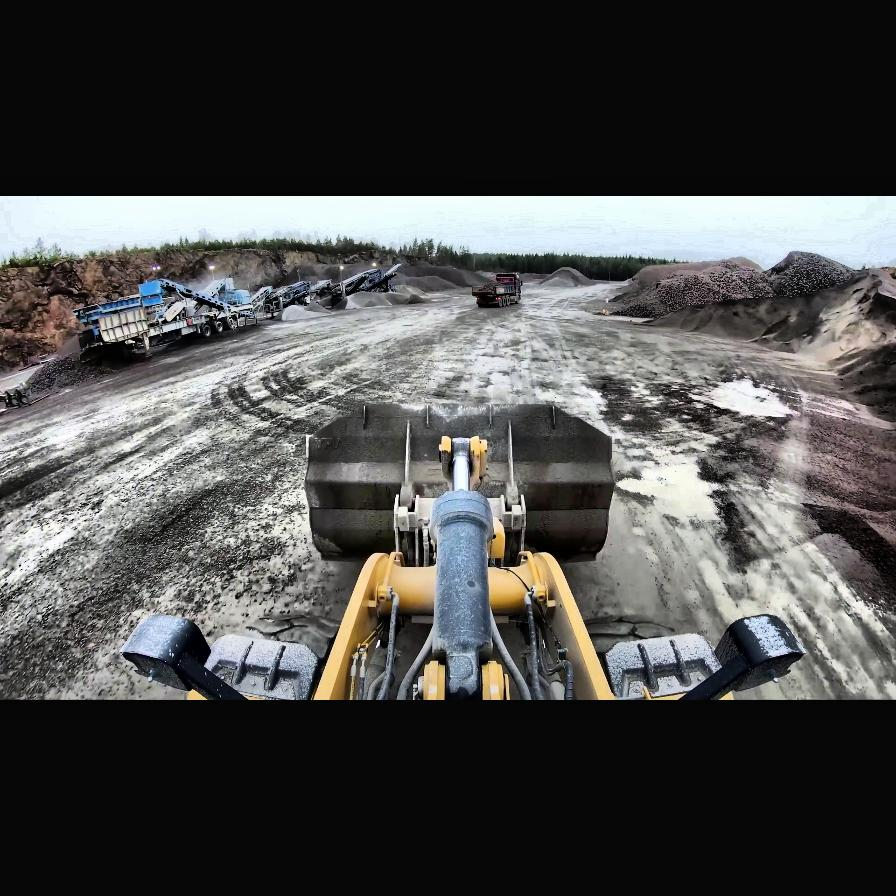anchor: (440, 436, 490, 492)
pile of gravel: (610, 249, 896, 365), (626, 257, 764, 295), (272, 301, 332, 321), (398, 275, 462, 293), (536, 267, 592, 287), (380, 289, 426, 305)
